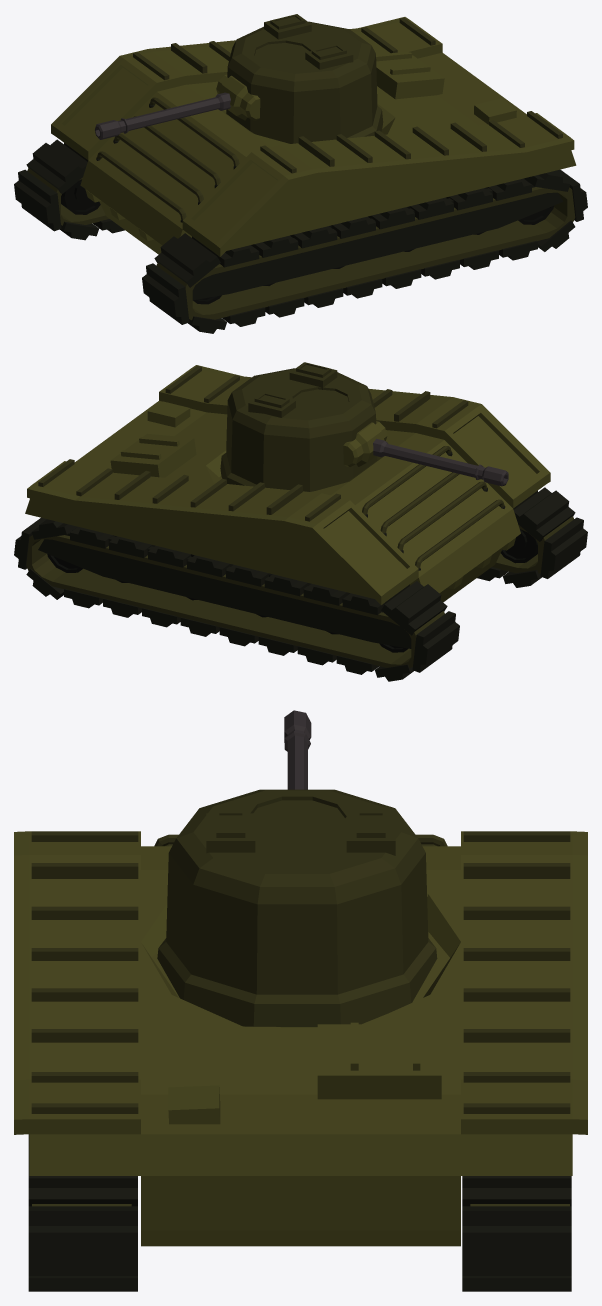
Rendered from Tank3.obj.
3 renders of one model, top to bottom at view 1: azimuth 30°, elevation 25°; view 2: azimuth 150°, elevation 25°; view 3: azimuth 270°, elevation 25°, orthographic. The views are drawn at different scales.
Visible parts, largest first — view 1: Tank_body_Cube.009, Tank_Turret_Cylinder, TrackMesh.L_Cube.051, TrackMesh.R_Cube.000, Tank_Gun_Cylinder.001; view 2: Tank_body_Cube.009, Tank_Turret_Cylinder, TrackMesh.R_Cube.000, TrackMesh.L_Cube.051, Tank_Gun_Cylinder.001; view 3: Tank_body_Cube.009, Tank_Turret_Cylinder, TrackMesh.L_Cube.051, TrackMesh.R_Cube.000, Tank_Gun_Cylinder.001.
Boxes of the visible parts, x1=… form: Tank_body_Cube.009: x1=27, y1=17, x2=576, y2=320; Tank_Turret_Cylinder: x1=216, y1=14, x2=383, y2=143; TrackMesh.L_Cube.051: x1=142, y1=169, x2=587, y2=333; TrackMesh.R_Cube.000: x1=14, y1=139, x2=124, y2=240; Tank_Gun_Cylinder.001: x1=95, y1=92, x2=230, y2=139; Tank_body_Cube.009: x1=25, y1=365, x2=573, y2=668; Tank_Turret_Cylinder: x1=220, y1=362, x2=387, y2=491; TrackMesh.R_Cube.000: x1=14, y1=517, x2=459, y2=681; TrackMesh.L_Cube.051: x1=477, y1=487, x2=587, y2=587; Tank_Gun_Cylinder.001: x1=373, y1=438, x2=508, y2=486; Tank_body_Cube.009: x1=14, y1=831, x2=587, y2=1246; Tank_Turret_Cylinder: x1=157, y1=789, x2=437, y2=1026; TrackMesh.L_Cube.051: x1=28, y1=1134, x2=137, y2=1291; TrackMesh.R_Cube.000: x1=462, y1=1176, x2=571, y2=1291; Tank_Gun_Cylinder.001: x1=284, y1=710, x2=311, y2=789.
Size of the model in its own units: 14.87 by 6.76 by 10.54.
